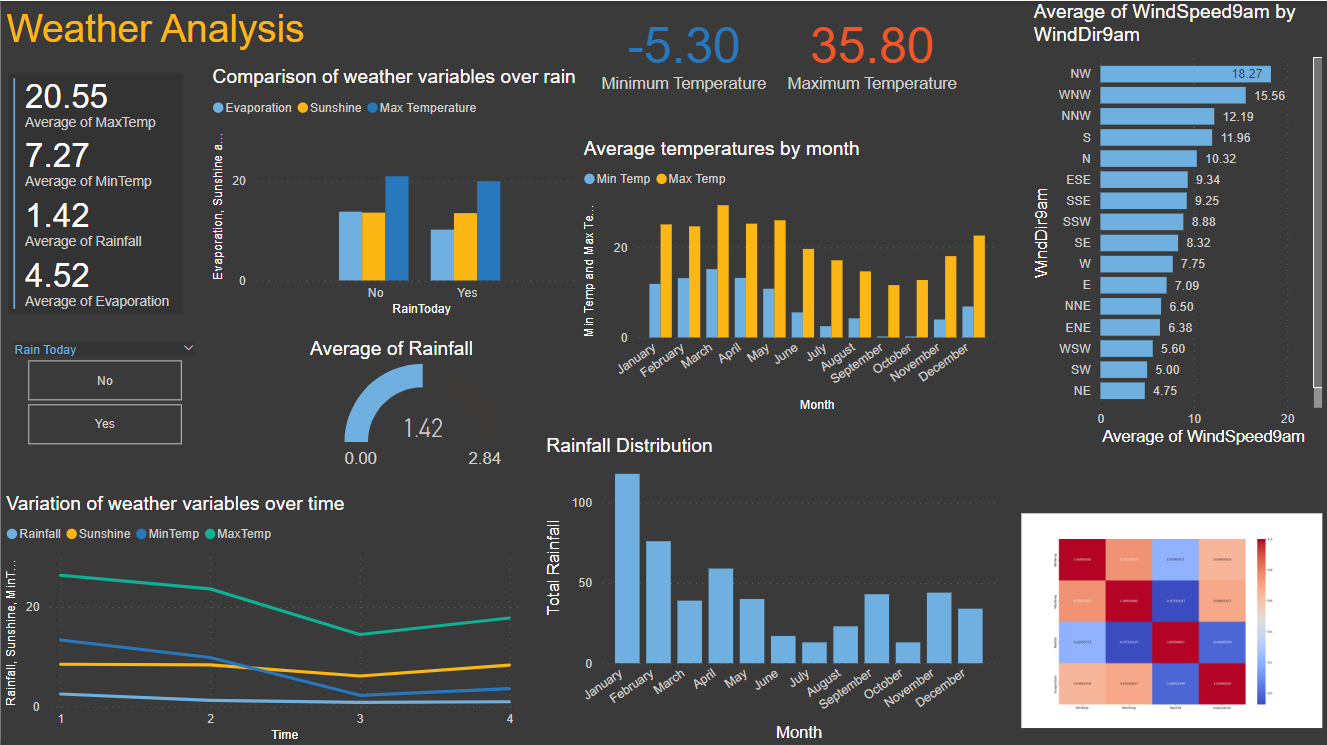

The dashboard page shown, as its layout file describes it:
{"tool":"powerbi","page":{"name":"Page 1","canvas":[1280,720],"ordinal":0},"visuals":[{"type":"card","fields":{"Values":["Min(weather1.MinTemp)"]},"box":[570,0,177.1,97.1],"z":0},{"type":"card","fields":{"Values":["Max(weather1.MaxTemp)"]},"box":[742.9,0,195.7,97.1],"z":1000},{"type":"lineClusteredColumnComboChart","title":"Comparison of weather variables over rain","fields":{"Category":["weather1.RainToday"],"Y":["Max(weather1.Evaporation)","Max(weather1.Sunshine)","Max(weather1.MinTemp)"]},"box":[198.6,62.9,371.4,245.7],"z":2000},{"type":"lineClusteredColumnComboChart","title":"Rainfall Distribution","fields":{"Y":["Sum(weather1.Rainfall)"],"Category":["Calendar.Date.Variation.Date Hierarchy.Month"]},"box":[521.2,418.8,443.8,301.2],"z":3000},{"type":"clusteredBarChart","fields":{"Category":["weather1.WindDir9am"],"Y":["Avg(weather1.WindSpeed9am)"]},"box":[991.4,0,288.6,434.3],"z":4000},{"type":"clusteredColumnChart","title":"Average temperatures by month","fields":{"Y":["Avg(weather1.MinTemp)","Avg(weather1.MaxTemp)"],"Category":["Calendar.Date.Variation.Date Hierarchy.Month"]},"box":[557.1,131.4,408.6,270],"z":5000},{"type":"multiRowCard","fields":{"Values":["Avg(weather1.MaxTemp)","Avg(weather1.MinTemp)","Avg(weather1.Rainfall)","Avg(weather1.Evaporation)"]},"box":[0,62.5,182.5,245],"z":6000},{"type":"textbox","box":[0,0,331.2,62.5],"z":7000},{"type":"pythonVisual","fields":{"Values":["weather1.MinTemp","weather1.MaxTemp","weather1.Rainfall","weather1.Evaporation"]},"box":[979.6,483.4,300.5,228.9],"z":8000},{"type":"slicer","fields":{"Values":["weather1.RainToday"]},"box":[0,324.3,198.6,110],"z":9000},{"type":"lineChart","title":"Variation of weather variables over time","fields":{"Y":["Avg(weather1.Rainfall)","Avg(weather1.Sunshine)","Avg(weather1.MinTemp)","Avg(weather1.MaxTemp)"],"Category":["Calendar.Quarter"]},"box":[0,474.3,505.7,245.7],"z":10000},{"type":"gauge","fields":{"Y":["Avg(weather1.Rainfall)"]},"box":[293.1,324.4,227.9,133.9],"z":11000}]}

Visuals, with their boxes in screenshot pixels (x1, y1, x2, y2), scaled from the page's 1280x720 canvas onto the 1327x745 screenshot:
card - Min(weather1.MinTemp): left=591, top=0, right=775, bottom=100
card - Max(weather1.MaxTemp): left=770, top=0, right=973, bottom=100
"Comparison of weather variables over rain" lineClusteredColumnComboChart: left=206, top=65, right=591, bottom=319
"Rainfall Distribution" lineClusteredColumnComboChart: left=540, top=433, right=1000, bottom=744
clusteredBarChart - weather1.WindDir9am x Avg(weather1.WindSpeed9am): left=1028, top=0, right=1326, bottom=449
"Average temperatures by month" clusteredColumnChart: left=578, top=136, right=1001, bottom=415
multiRowCard - Avg(weather1.MaxTemp) x Avg(weather1.MinTemp): left=0, top=65, right=189, bottom=318
textbox: left=0, top=0, right=343, bottom=65
pythonVisual - weather1.MinTemp x weather1.MaxTemp: left=1016, top=500, right=1326, bottom=737
slicer - weather1.RainToday: left=0, top=336, right=206, bottom=449
"Variation of weather variables over time" lineChart: left=0, top=491, right=524, bottom=744
gauge - Avg(weather1.Rainfall): left=304, top=336, right=540, bottom=474
